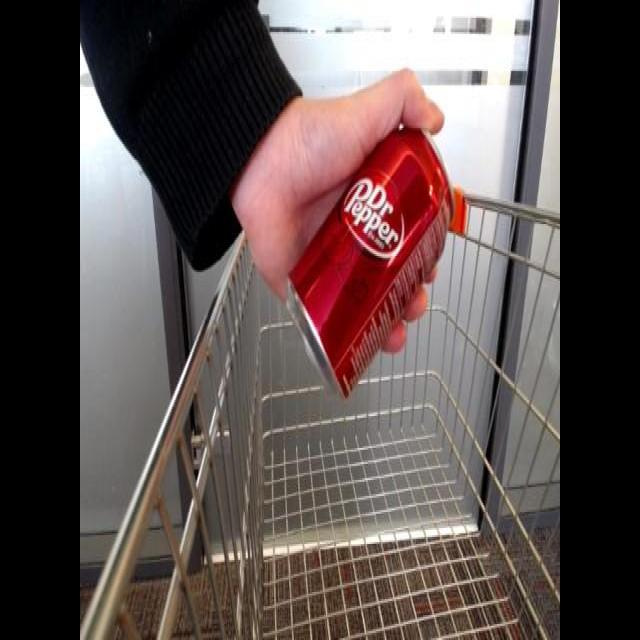Dr Pepper: (280, 97, 467, 410)
